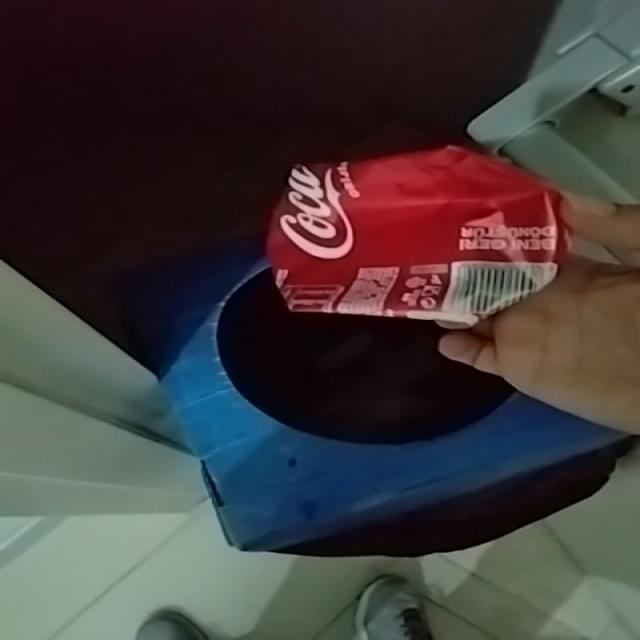bin: (163, 255, 632, 557)
metal: (267, 146, 568, 321)
